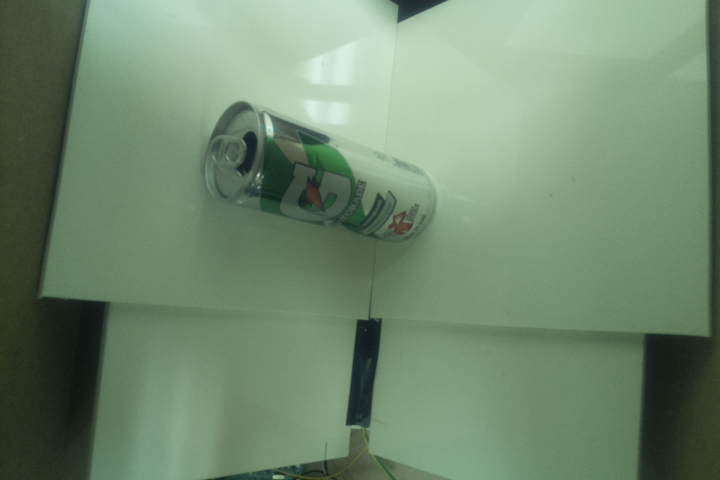can: (199, 99, 437, 245)
